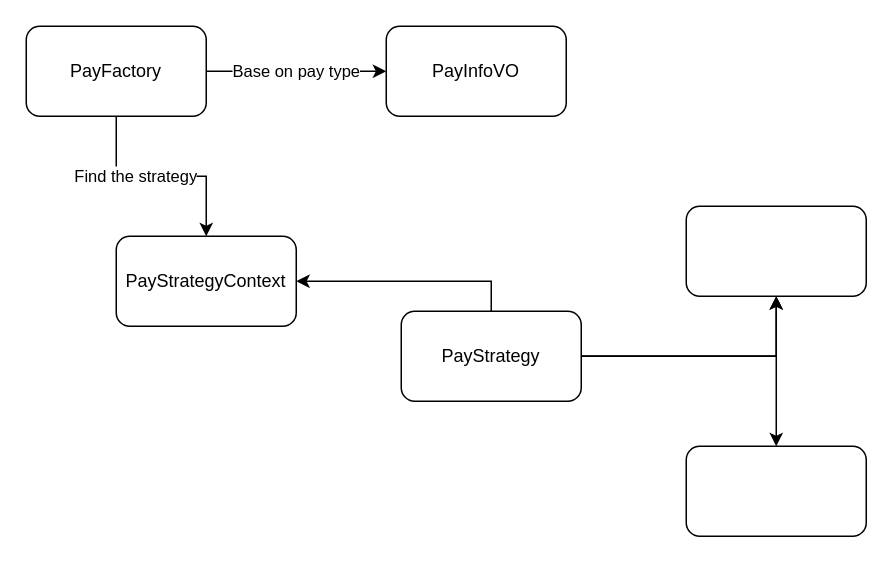
Some shapes in this 893 by 563 pixel diagram are drawn without their labels. Each missing label, with the centre of its shape:
AlipayStrategy: (x=775, y=250)
WechatPayStrategy: (x=775, y=490)
